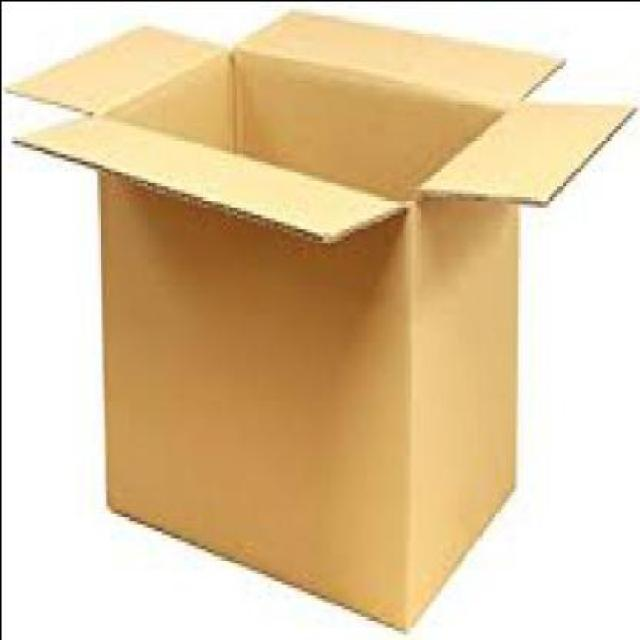CARDBOARD: (0, 3, 634, 619), (93, 160, 407, 626), (9, 113, 405, 235), (407, 178, 515, 625), (235, 7, 563, 104), (412, 96, 630, 199), (5, 21, 222, 110)
